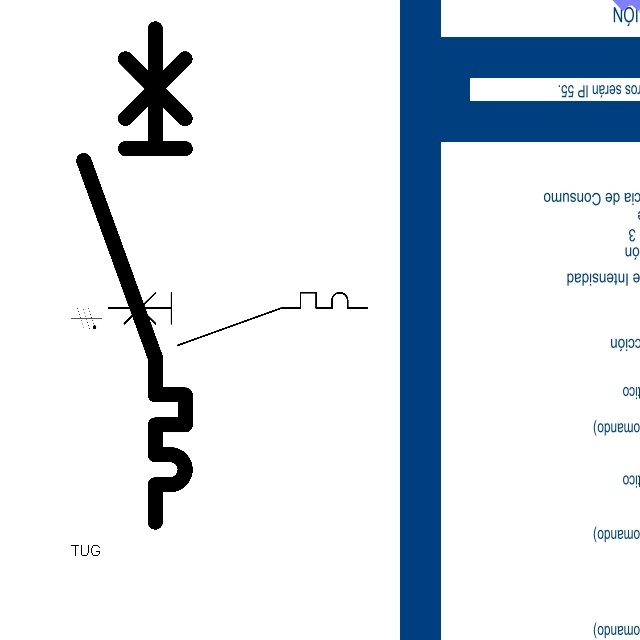interruptor_termomagnetico: (71, 16, 198, 535), (101, 286, 373, 352)
